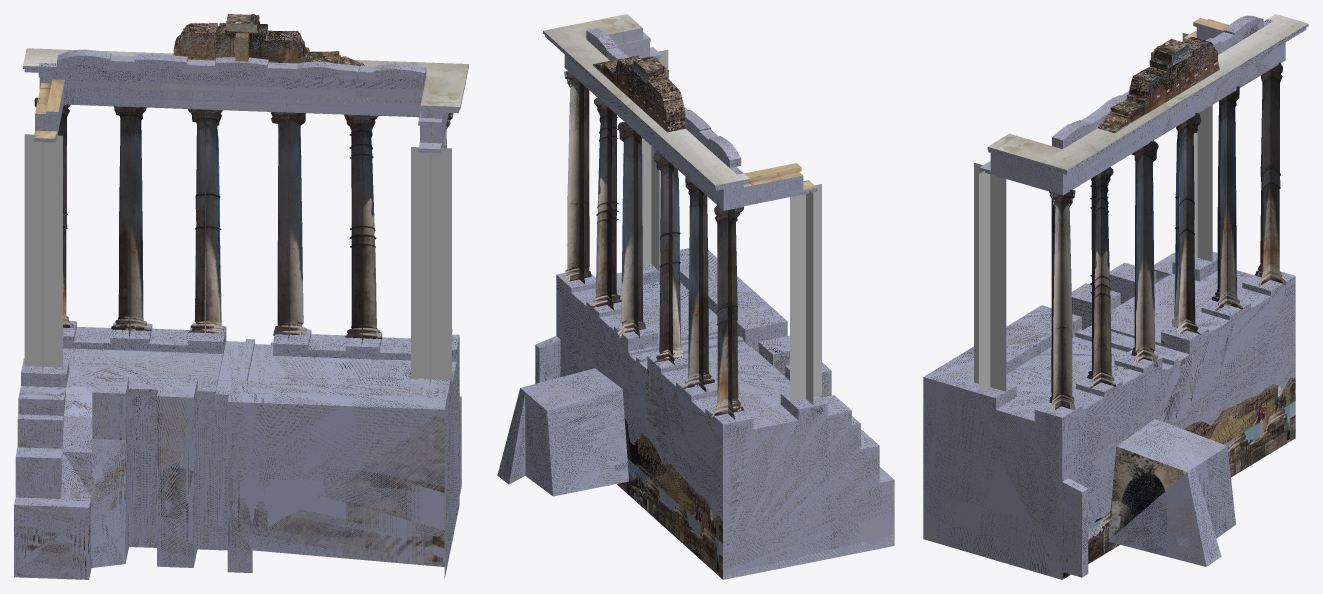
The model's file is Tempio_di_Saturno___Roma.fbx.
The picture shows the model from 3 angles, left to right: view 1: azimuth 30°, elevation 25°; view 2: azimuth 150°, elevation 25°; view 3: azimuth 270°, elevation 25°; orthographic projection. The views are drawn at different scales.
Visible parts, largest first — view 1: Model; view 2: Model; view 3: Model.
Part boxes in pixels (box(x1,y1,x2,y2)): Model: box(14, 14, 468, 579); Model: box(497, 14, 894, 579); Model: box(923, 14, 1308, 579).
Bounding box in the file's own units: 26.59 × 29.2 × 22.15.
